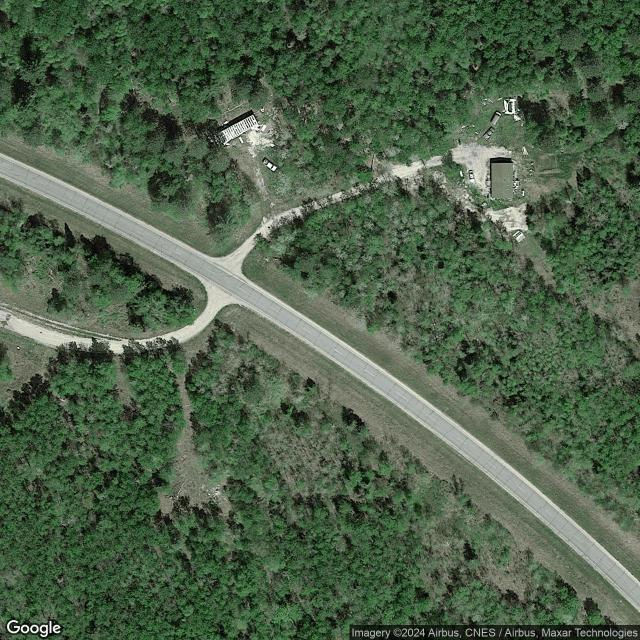Propane: (459, 169, 464, 178), (521, 188, 525, 198)
